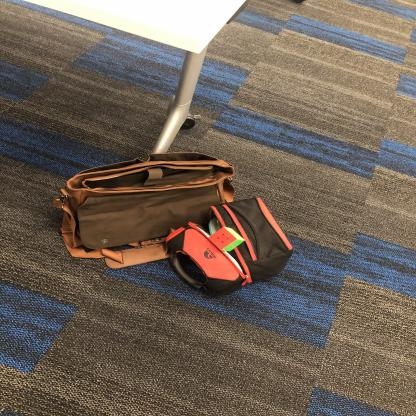SolvedCube: (209, 224, 244, 252)
